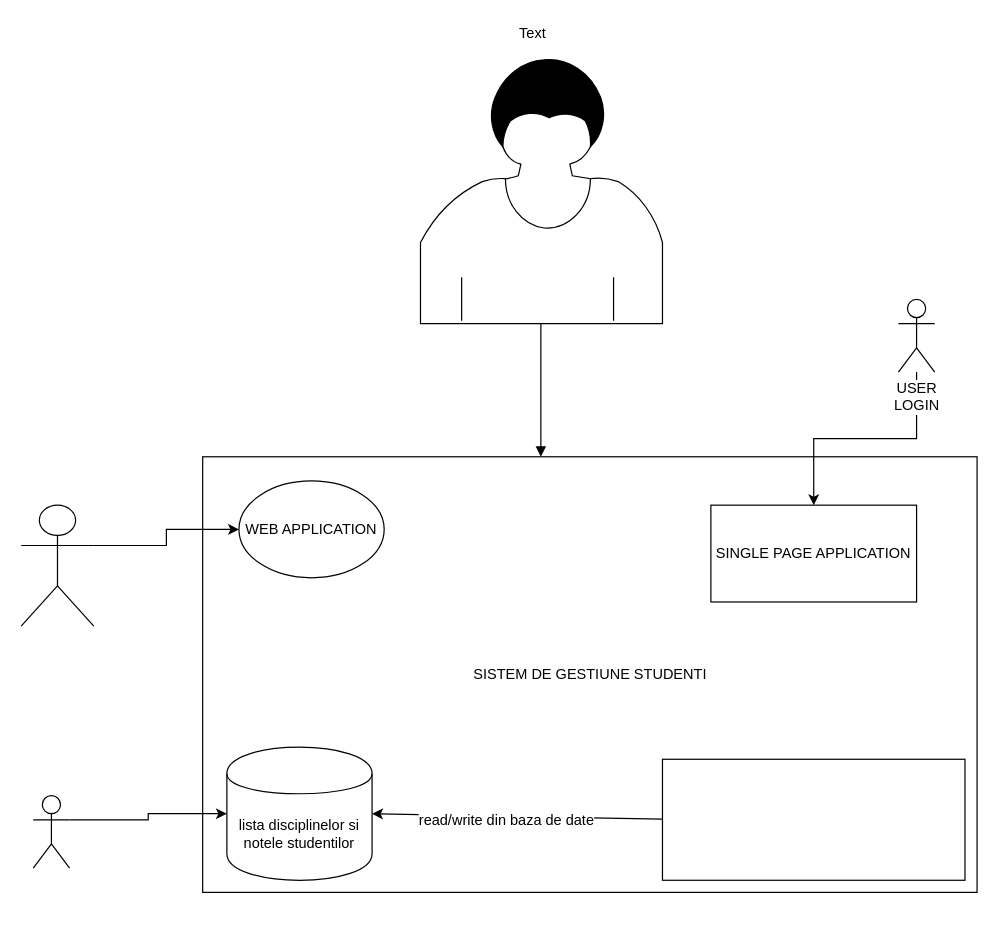
This 998x932 diagram has some shape labels left out. Each missing label, with the centre of its shape:
"ADMIN" belongs at point (51, 831).
"API APPLICATION (container : c#)" belongs at point (813, 819).
"Student" belongs at point (57, 565).
